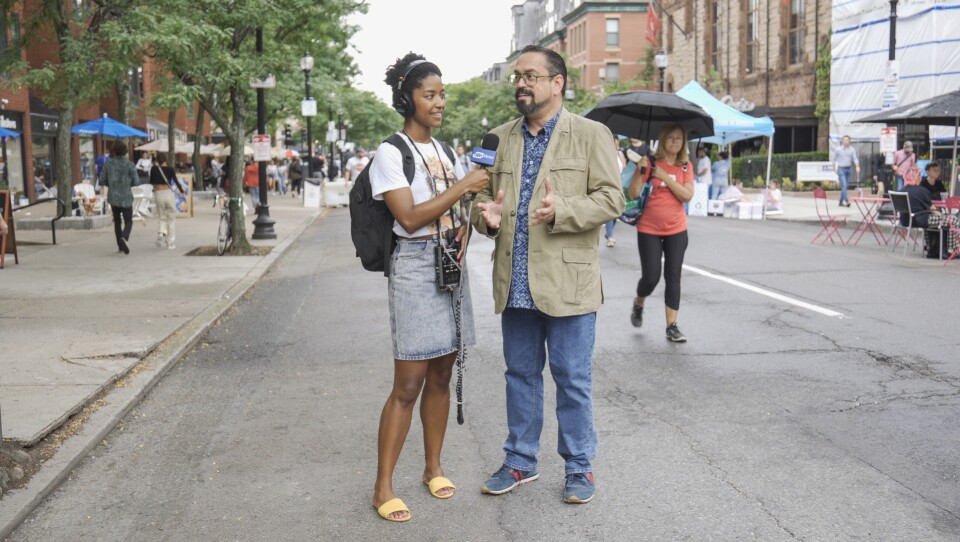person: (470, 35, 625, 508), (345, 47, 479, 529), (626, 117, 702, 348), (99, 141, 140, 260), (146, 151, 180, 253), (919, 161, 948, 254), (828, 131, 861, 208), (708, 149, 737, 219), (887, 138, 916, 203)
